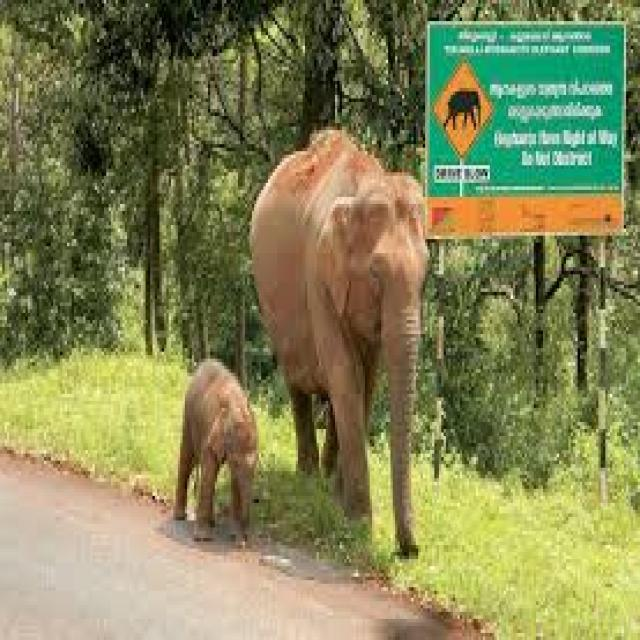Elephant: (250, 119, 433, 550), (170, 354, 268, 532)
